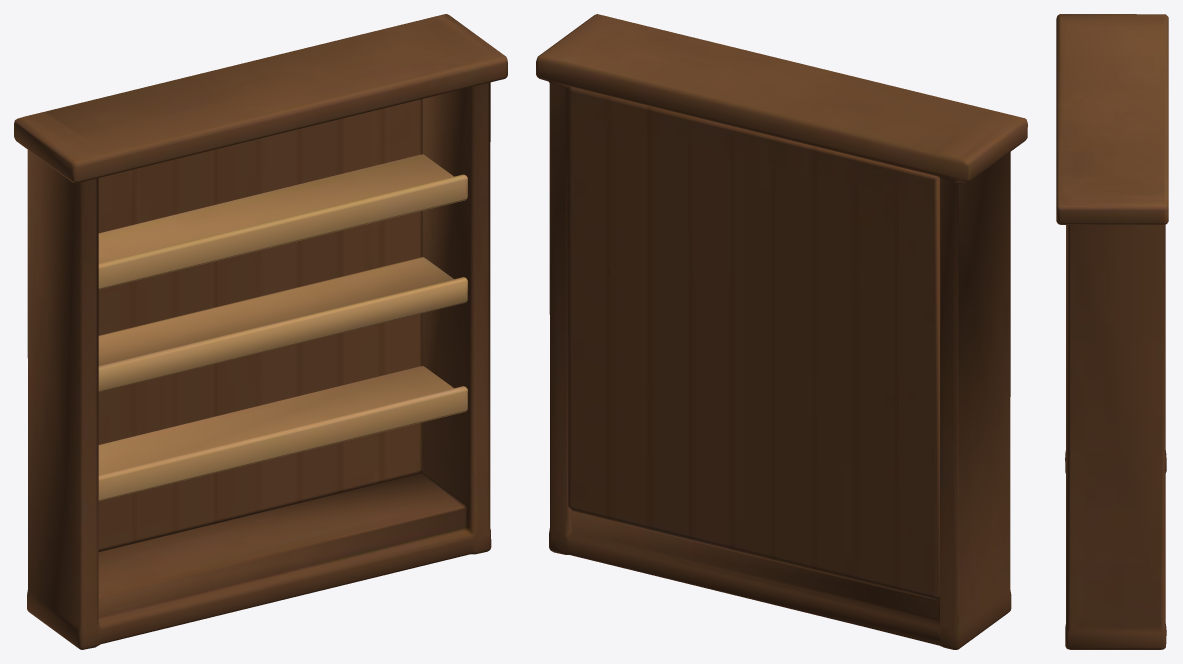
Rendered from shelf.glb.
The picture shows the model from 3 angles, left to right: view 1: azimuth 30°, elevation 25°; view 2: azimuth 150°, elevation 25°; view 3: azimuth 270°, elevation 25°; orthographic projection. The views are drawn at different scales.
Visible parts, largest first — view 1: frame; view 2: frame; view 3: frame.
Boxes of the visible parts, left/top/right/bottom form: frame: left=14, top=14, right=507, bottom=649; frame: left=536, top=14, right=1027, bottom=649; frame: left=1056, top=14, right=1168, bottom=649.
Size of the model in its own units: 1.38 by 1.5 by 0.3397.
Materials: 1 (1 with a texture image).
